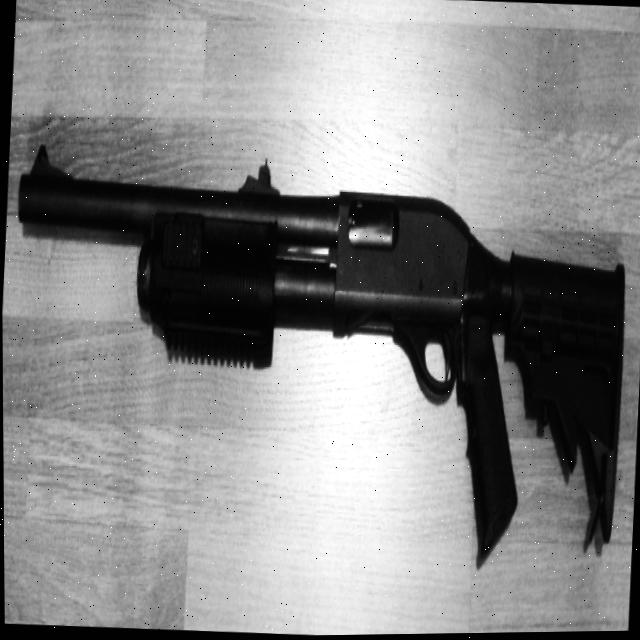firearm: (1, 122, 636, 597)
